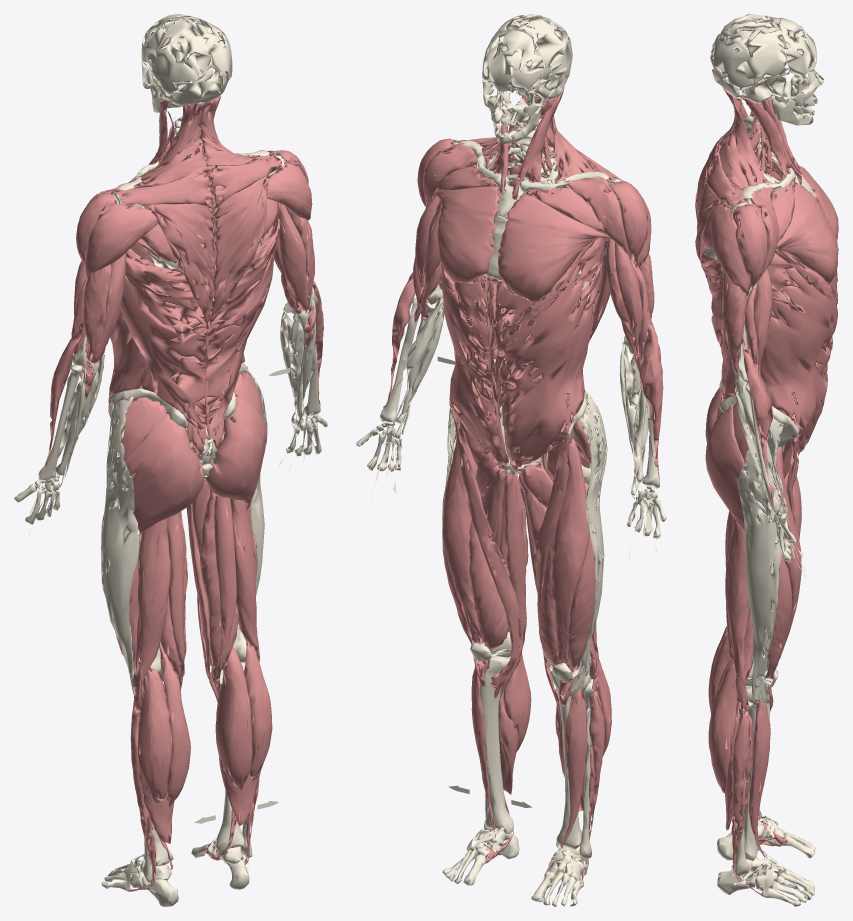
File: body.glb
3 views of the same model, side by side, from view 1: azimuth 30°, elevation 25°; view 2: azimuth 150°, elevation 25°; view 3: azimuth 270°, elevation 25° (orthographic).
Parts seen in each view (by area): view 1: muscle_latissimus_dorsi_muscle_l, bone_iliotibial_tract_l, muscle_latissimus_dorsi_muscle_r, muscle_gluteus_maximus_muscle_l, muscle_descending_part_of_trapezius_muscle_r, muscle_long_head_of_biceps_femoris_l, muscle_descending_part_of_trapezius_muscle_l, muscle_gluteus_maximus_muscle_r, muscle_medial_head_of_gastrocnemius_r, muscle_lateral_head_of_gastrocnemius_l, bone_parietal_bone_l, muscle_scapular_spinal_part_of_deltoid_muscle_l (+37 smaller); view 2: muscle_external_abdominal_oblique_muscle_l, muscle_sternocostal_head_of_pectoralis_major_muscle_l, muscle_external_abdominal_oblique_muscle_r, muscle_rectus_femoris_muscle_l, muscle_sternocostal_head_of_pectoralis_major_muscle_r, muscle_rectus_femoris_muscle_r, muscle_sartorius_muscle_r, bone_iliotibial_tract_l, bone_frontal_bone, bone_tibia_r, muscle_vastus_medialis_muscle_r, muscle_gracilis_muscle_r (+41 smaller); view 3: muscle_external_abdominal_oblique_muscle_r, bone_iliotibial_tract_r, bone_parietal_bone_r, muscle_sternocostal_head_of_pectoralis_major_muscle_r, muscle_long_head_of_biceps_femoris_r, muscle_gluteus_maximus_muscle_r, muscle_lateral_head_of_gastrocnemius_r, muscle_ascending_part_of_trapezius_muscle_r, muscle_acromial_part_of_deltoid_muscle_r, muscle_scapular_spinal_part_of_deltoid_muscle_r, muscle_tibialis_anterior_muscle_r, muscle_latissimus_dorsi_muscle_r (+44 smaller).
Part boxes in pixels (x1,y1,x2,y2): muscle_latissimus_dorsi_muscle_l: (120,256,212,429); bone_iliotibial_tract_l: (101,397,139,695); muscle_latissimus_dorsi_muscle_r: (206,215,279,429); muscle_gluteus_maximus_muscle_l: (125,410,204,534); muscle_descending_part_of_trapezius_muscle_r: (207,174,269,330); muscle_long_head_of_biceps_femoris_l: (133,518,170,710); muscle_descending_part_of_trapezius_muscle_l: (142,187,214,328); muscle_gluteus_maximus_muscle_r: (205,394,267,508); muscle_medial_head_of_gastrocnemius_r: (215,646,252,789); muscle_lateral_head_of_gastrocnemius_l: (138,667,172,803); bone_parietal_bone_l: (144,18,210,94); muscle_scapular_spinal_part_of_deltoid_muscle_l: (85,204,160,277); muscle_external_abdominal_oblique_muscle_l: (495,265,593,461); muscle_sternocostal_head_of_pectoralis_major_muscle_l: (497,192,611,302); muscle_external_abdominal_oblique_muscle_r: (441,271,504,458); muscle_rectus_femoris_muscle_l: (551,438,589,707); muscle_sternocostal_head_of_pectoralis_major_muscle_r: (436,186,499,283); muscle_rectus_femoris_muscle_r: (442,428,488,686); muscle_sartorius_muscle_r: (451,409,520,698); bone_iliotibial_tract_l: (569,390,607,696); bone_frontal_bone: (482,29,544,92); bone_tibia_r: (479,651,513,834); muscle_vastus_medialis_muscle_r: (469,520,508,668); muscle_gracilis_muscle_r: (499,469,526,700); muscle_external_abdominal_oblique_muscle_r: (758,267,837,450); bone_iliotibial_tract_r: (738,417,783,705); bone_parietal_bone_r: (713,19,789,89); muscle_sternocostal_head_of_pectoralis_major_muscle_r: (776,182,838,283); muscle_long_head_of_biceps_femoris_r: (725,518,749,709); muscle_gluteus_maximus_muscle_r: (705,401,745,531); muscle_lateral_head_of_gastrocnemius_r: (708,663,737,793); muscle_ascending_part_of_trapezius_muscle_r: (719,86,766,191); muscle_acromial_part_of_deltoid_muscle_r: (733,204,768,288); muscle_scapular_spinal_part_of_deltoid_muscle_r: (710,204,751,295); muscle_tibialis_anterior_muscle_r: (748,700,770,857); muscle_latissimus_dorsi_muscle_r: (701,250,735,410).
Size of the model in its own units: 1.13 by 3 by 0.4536.
